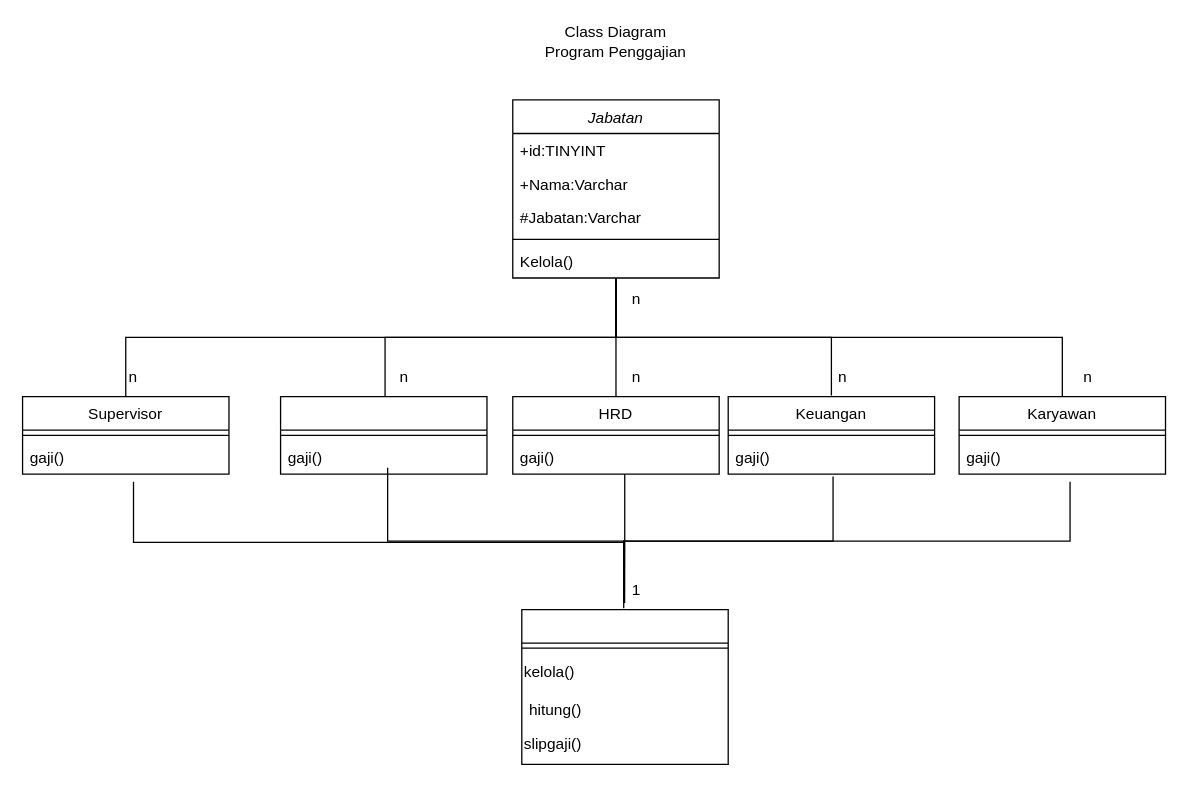
The diagram is 1188 pixels wide and 787 high, and some of its shapes have lost their labels. The box of each missing label's shape, as (x1, y1, x2, y2) in pixels:
LaporanGaji: (521, 608, 728, 764)
Manager: (279, 395, 487, 474)
